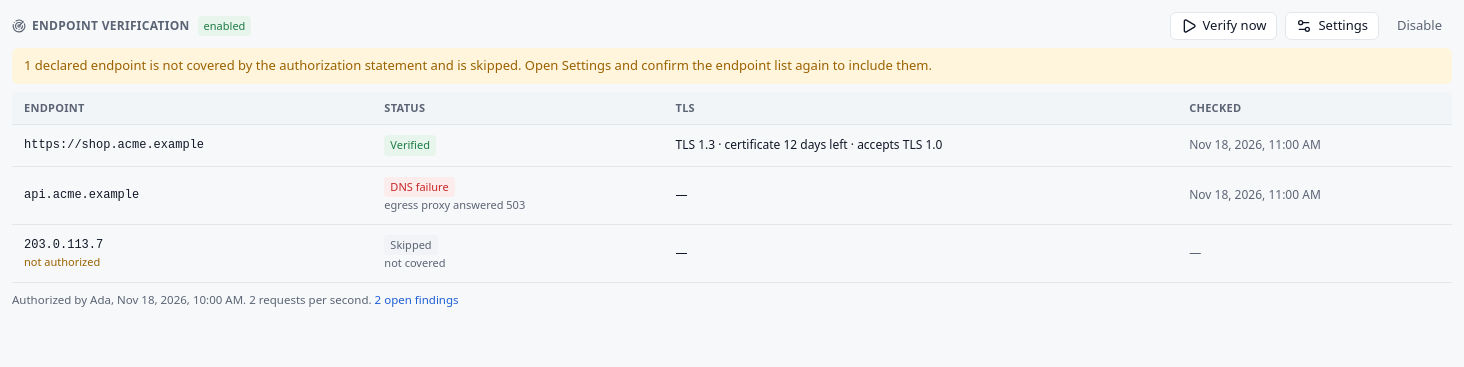
Test case: endpoint verification › shows results, unauthorized endpoints and runs a verification
The image size is (1464, 367).
Expected: the text "Verified" is shown, [384,135,436,156]
Expected: the text "DNS failure" is shown, [384,176,455,197]
Click the button "Verify now".
click(1223, 26)  # box [1170,12,1277,40]
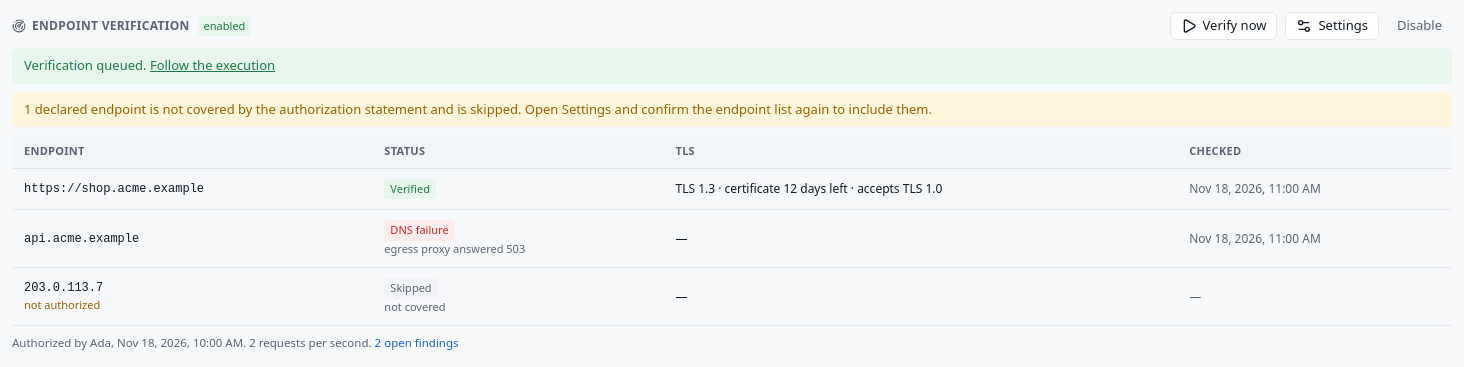
Expected: the text "Verification queued. Follow the execution" is shown, [12,48,1452,84]
